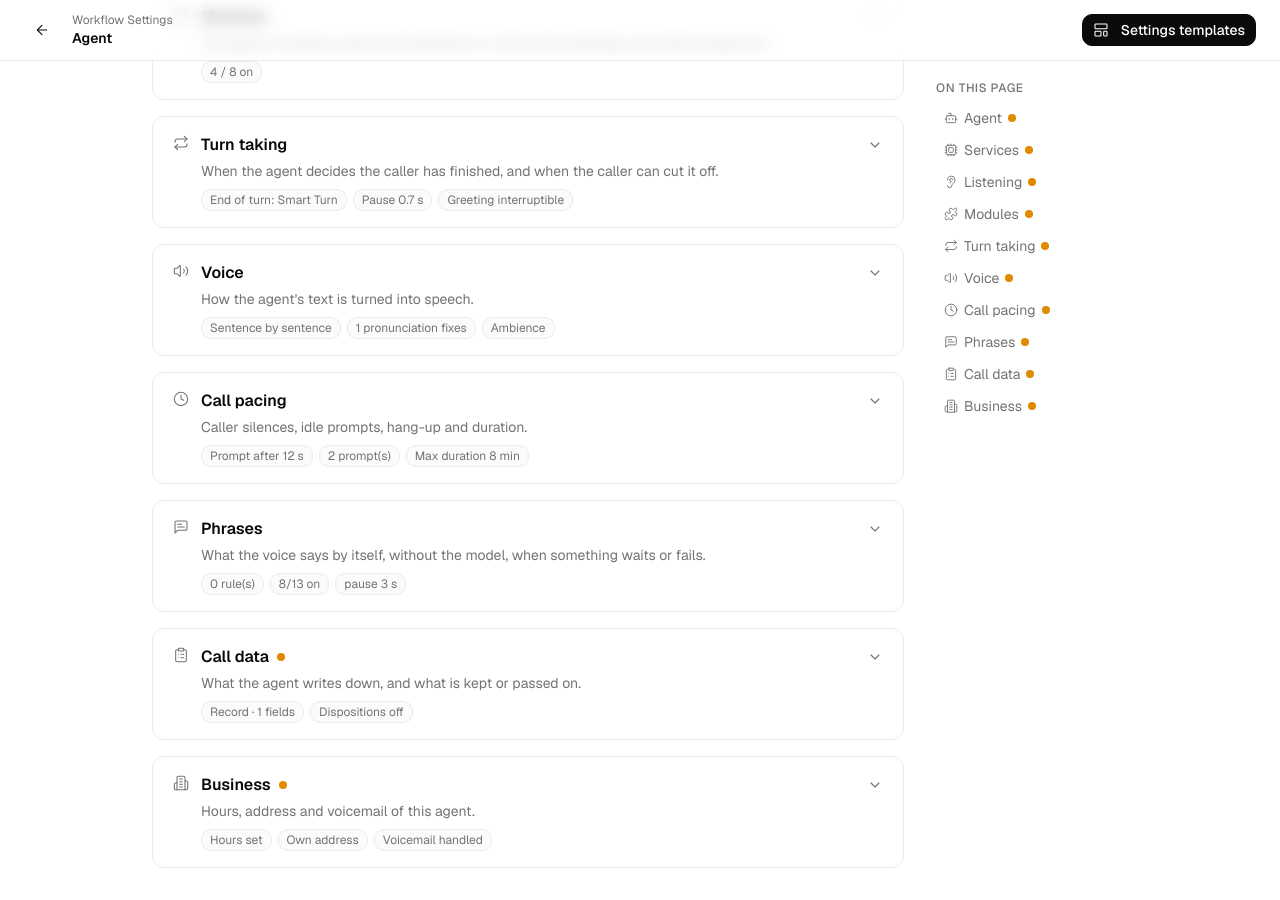
Test: [.mark] the fiche of the agent, theme « Business » › draws the menu with « None » by default, its bounds and default, and finds it in the theme
This screenshot has width=1280, height=900.
(page scrolled)
Step 1. Click the button that starts with "Business" → (236, 784), box [153,757,903,867]
(page scrolled)
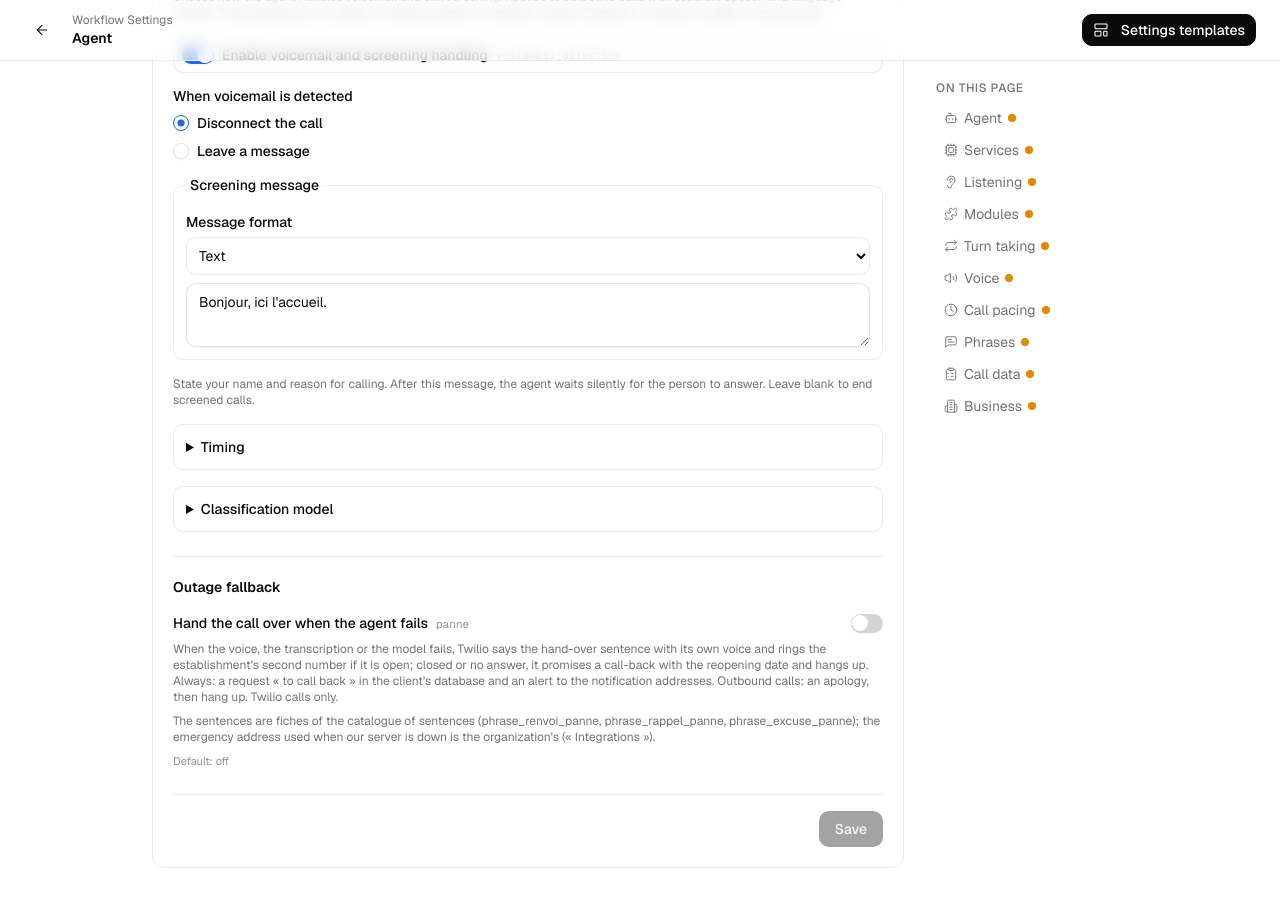
Expected: the button with aria-label "Save Business" is disabled, [819,811,883,847]
